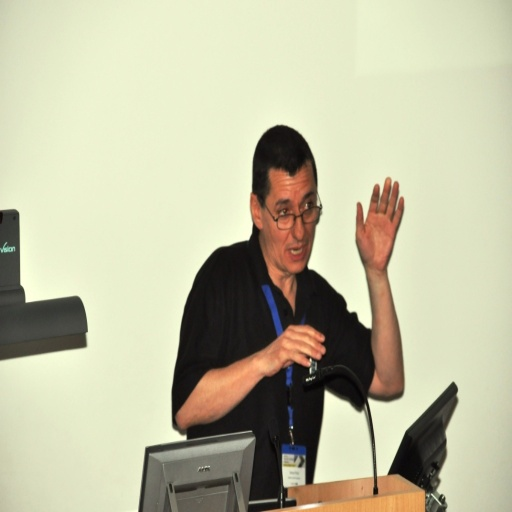hand: (356, 176, 404, 268), (256, 322, 326, 377)
